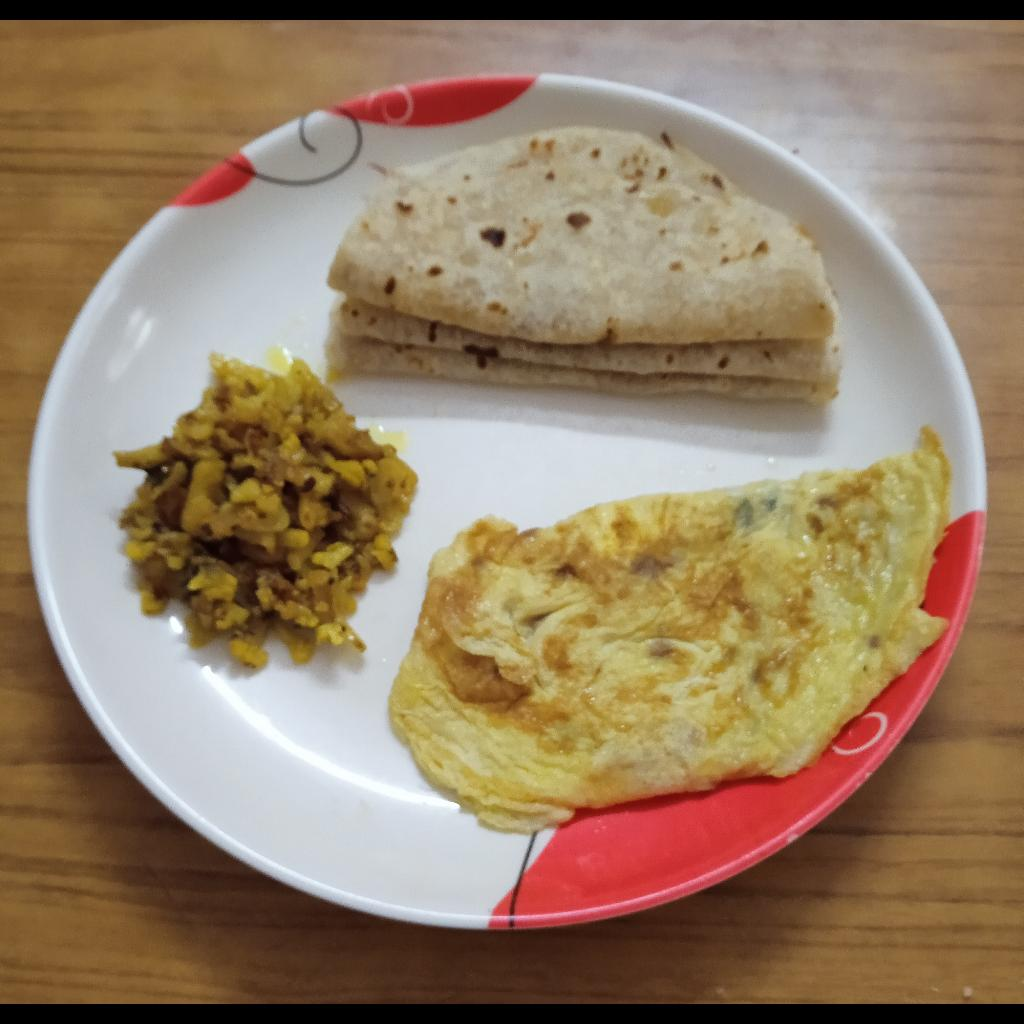cabbage: (116, 353, 409, 652)
egg-poached: (393, 427, 956, 829)
ruti: (319, 128, 838, 394)
